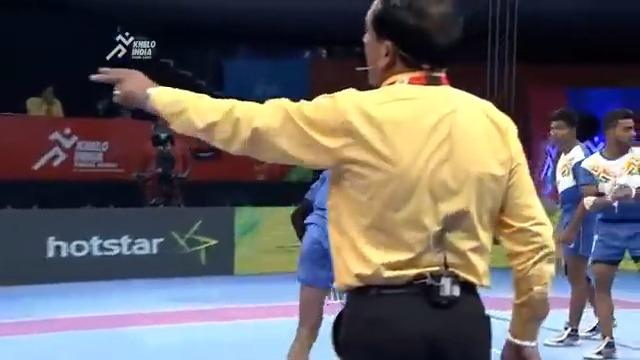Player: (577, 107, 639, 358), (542, 107, 601, 347)
referee: (87, 0, 556, 358), (148, 117, 179, 206)
